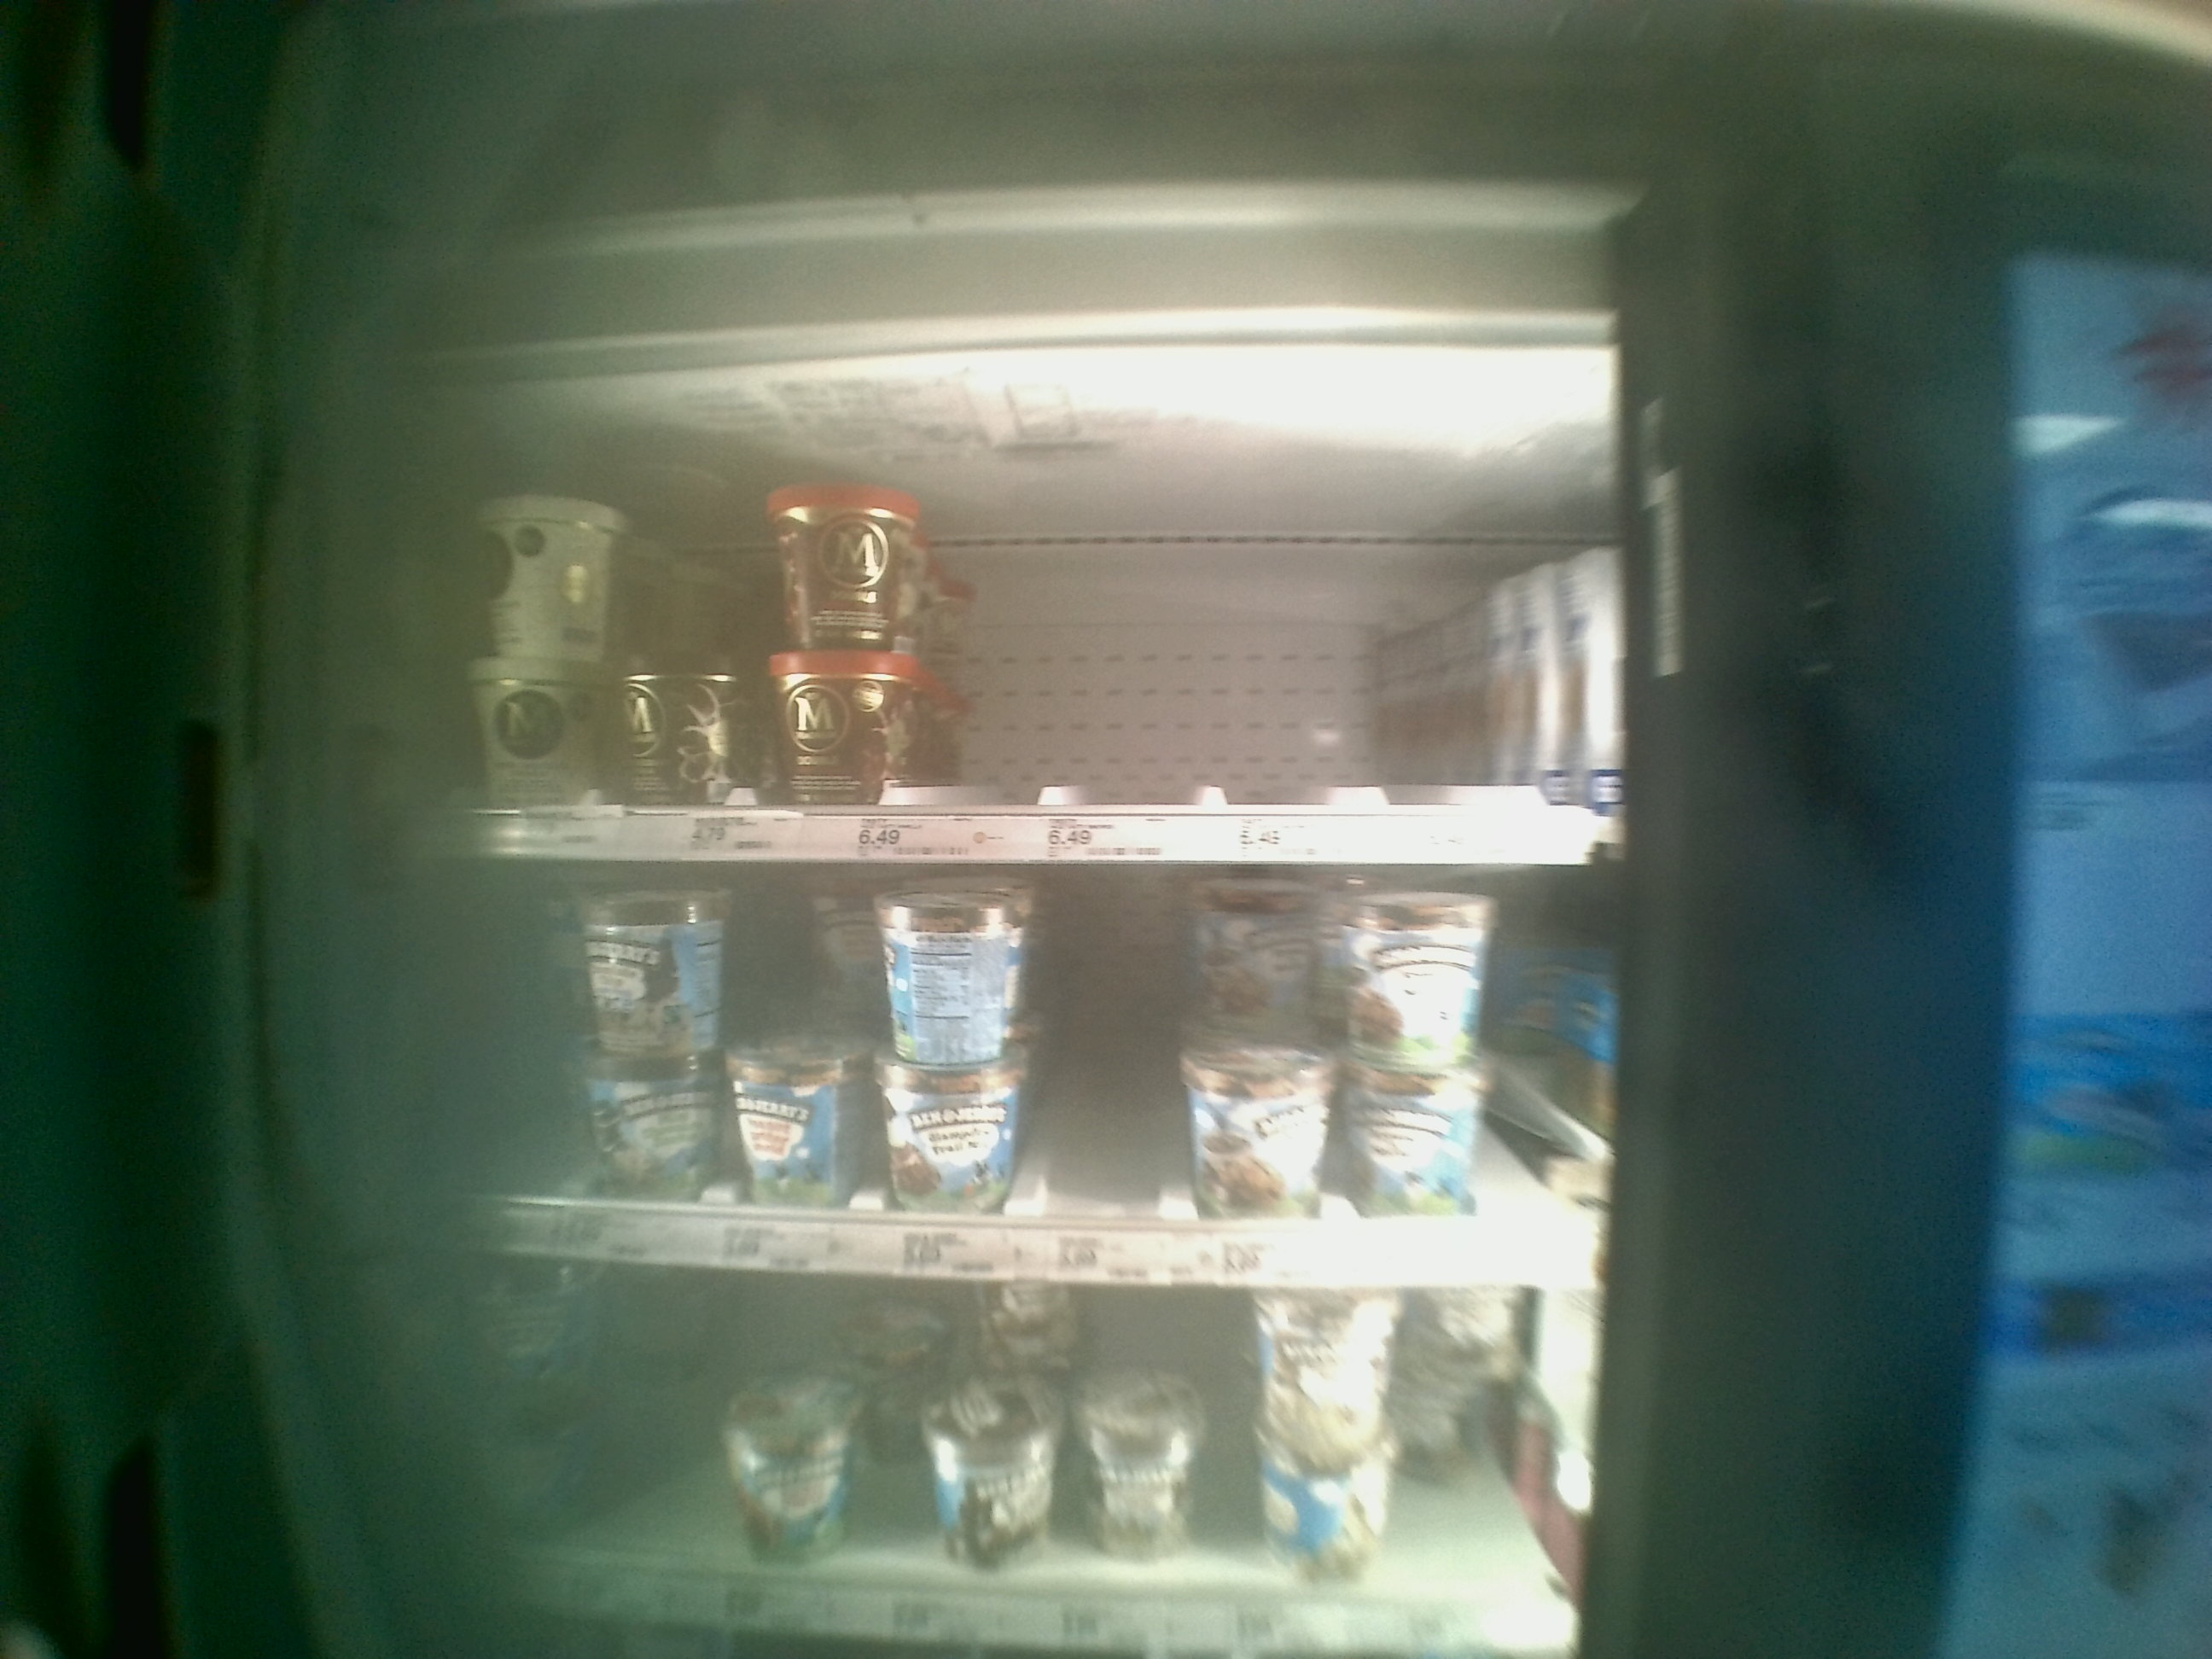shelf: (381, 397, 1611, 863), (380, 859, 1609, 1297)
